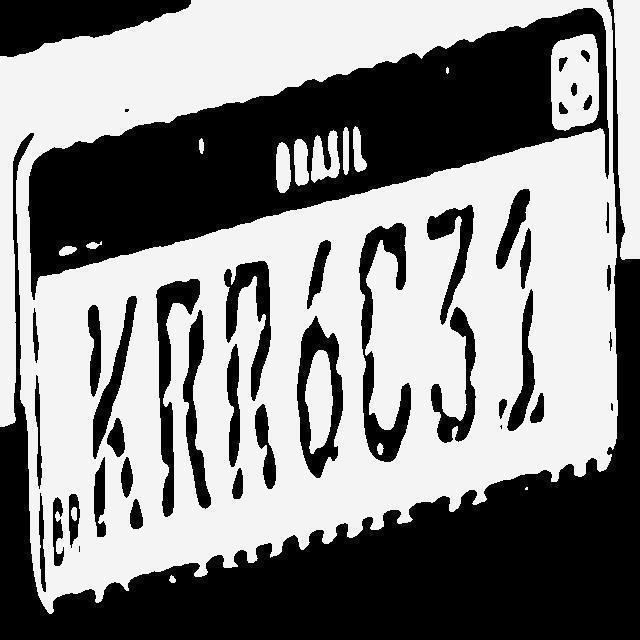1: (493, 186, 546, 436)
3: (426, 203, 478, 442)
6: (296, 237, 346, 480)
c: (355, 221, 414, 464)
k: (85, 294, 144, 536)
r: (156, 275, 214, 518), (222, 256, 280, 499)
